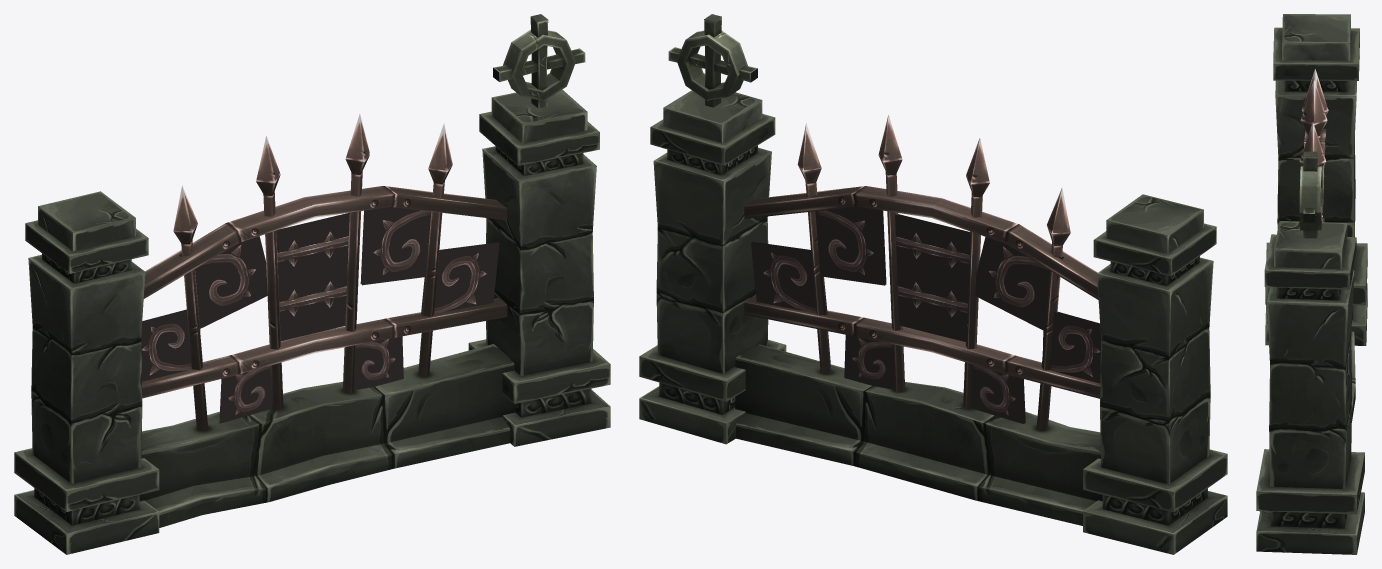
The model's file is fence_wall_01.fbx.
3 views of the same model, side by side, from view 1: azimuth 30°, elevation 25°; view 2: azimuth 150°, elevation 25°; view 3: azimuth 270°, elevation 25° (orthographic). The views are drawn at different scales.
Parts seen in each view (by area): view 1: fence_wall_01; view 2: fence_wall_01; view 3: fence_wall_01.
Boxes of the visible parts, x1=… form: fence_wall_01: x1=14, y1=14, x2=610, y2=554; fence_wall_01: x1=639, y1=14, x2=1227, y2=554; fence_wall_01: x1=1256, y1=14, x2=1367, y2=554.
Bounding box in the file's own units: 9.24 × 6.46 × 1.72.
